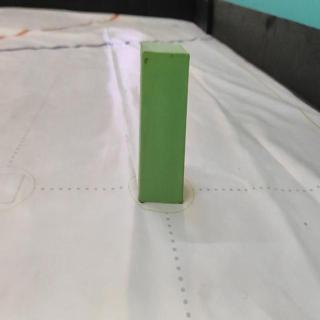greenbox: (139, 37, 191, 204)
